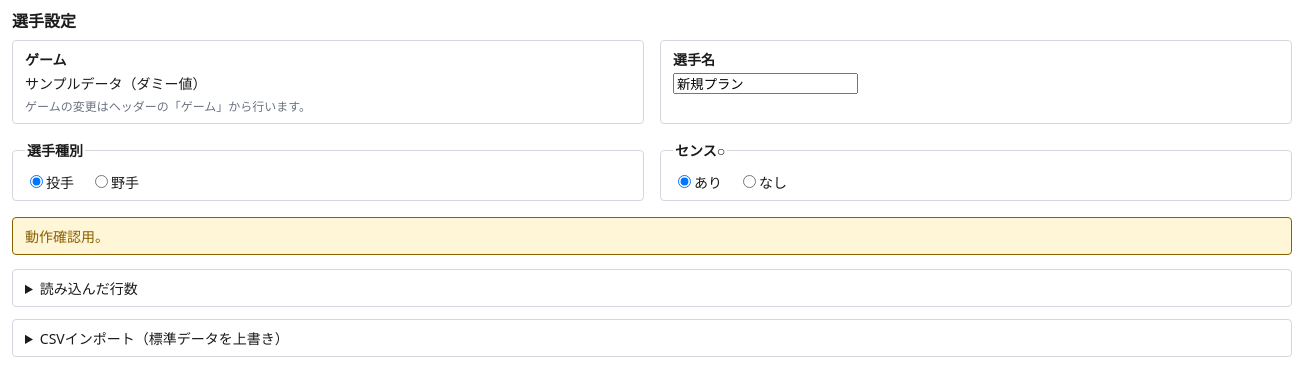
it: PlanSettingTab › UI-T1-04: 選手名を空にしてフォーカスを外すとエラーを表示する
Step 1. Clear the field with test id "plan-name" → (766, 84), box x1=673 y1=73 x2=858 y2=94
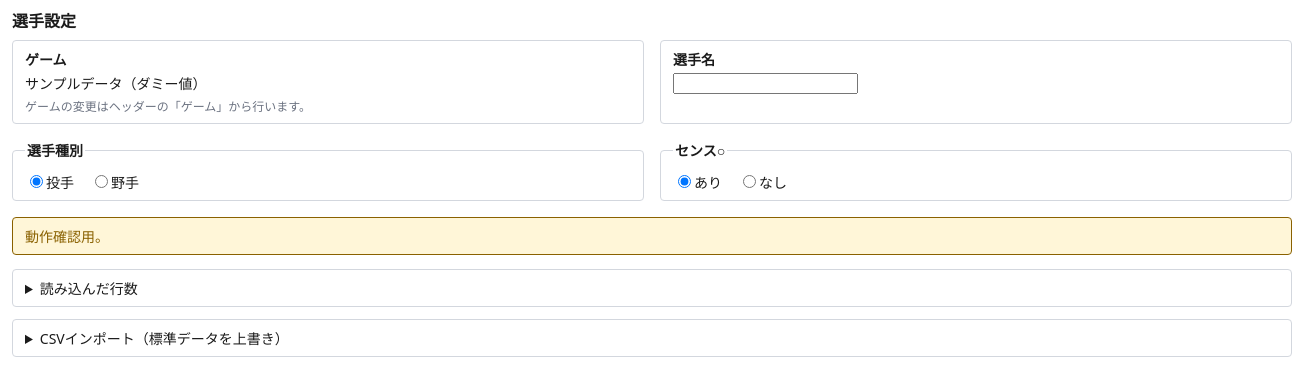
Step 2. Leave the field with test id "plan-name", box x1=673 y1=73 x2=858 y2=94
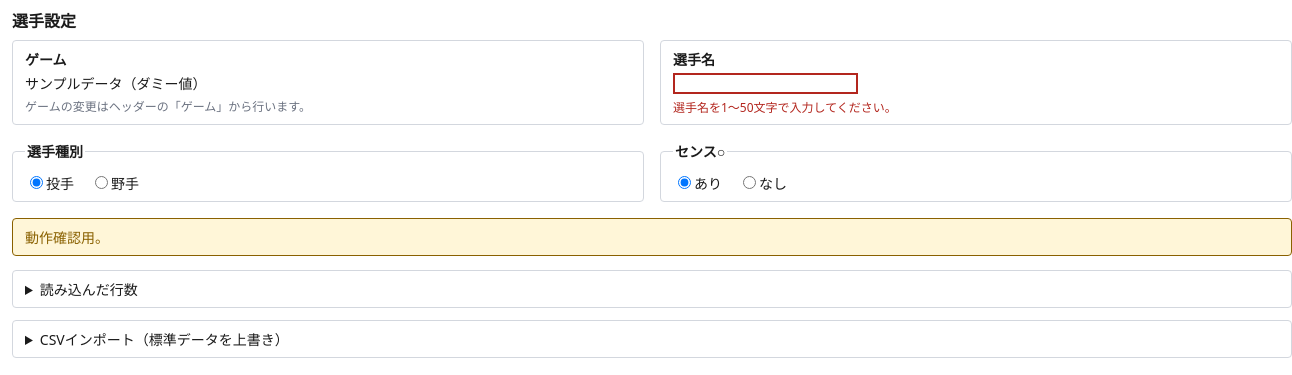
Now the text "選手名を1〜50文字で入力してください。" is shown, box x1=673 y1=99 x2=897 y2=116
